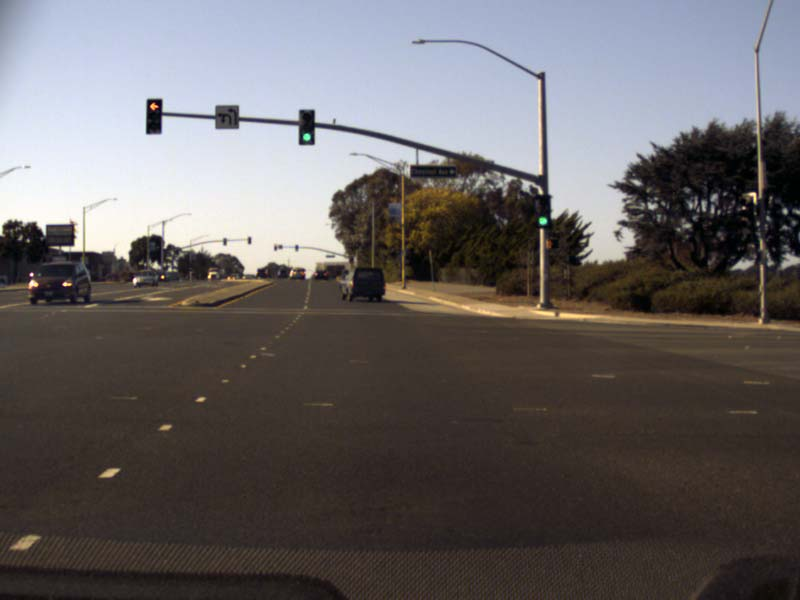Green: (299, 110, 315, 146), (535, 196, 549, 227)
Red: (147, 99, 160, 133)
